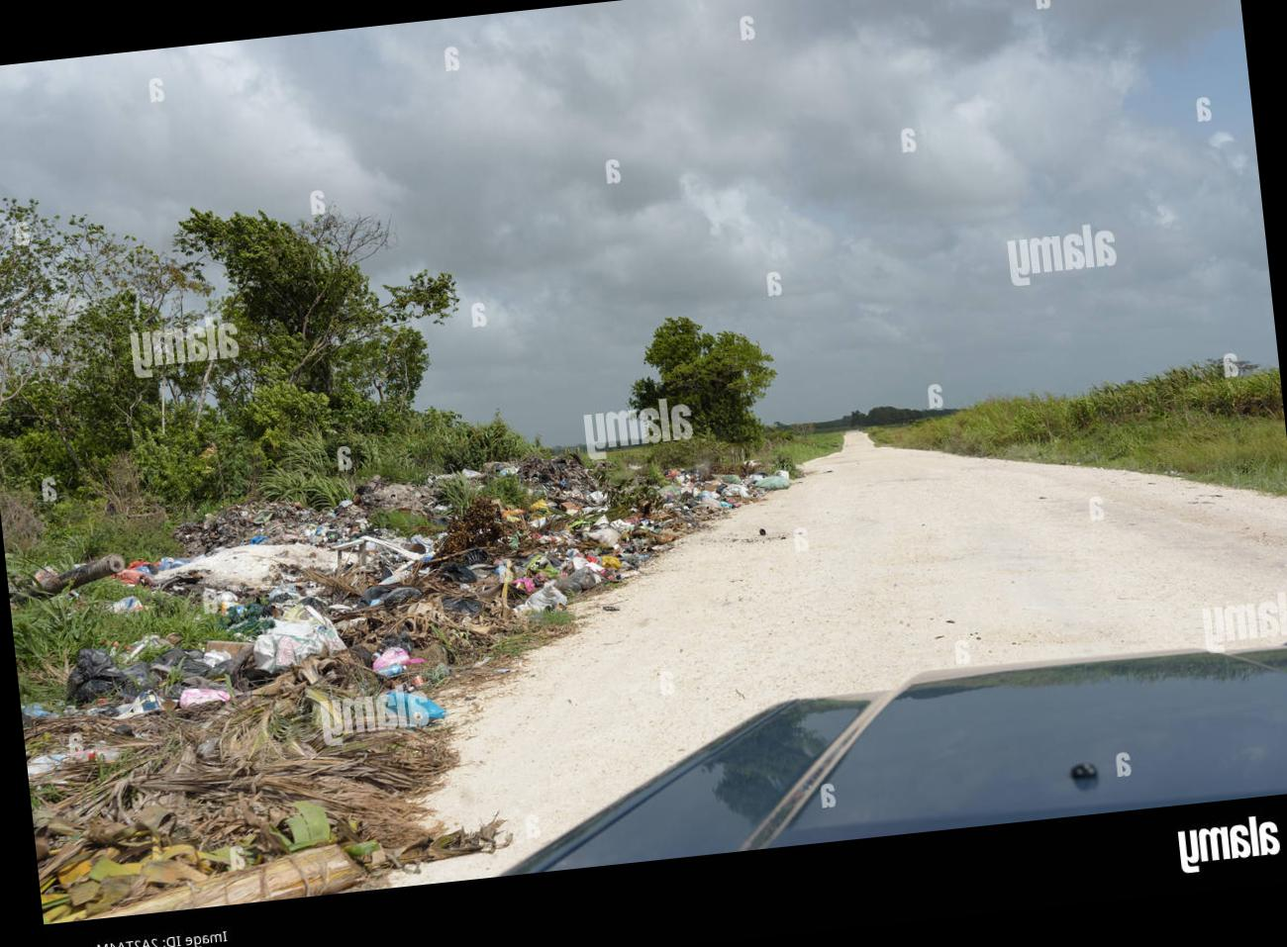sky: (450, 0, 1267, 331), (0, 26, 451, 199)
trash: (169, 472, 726, 665)
